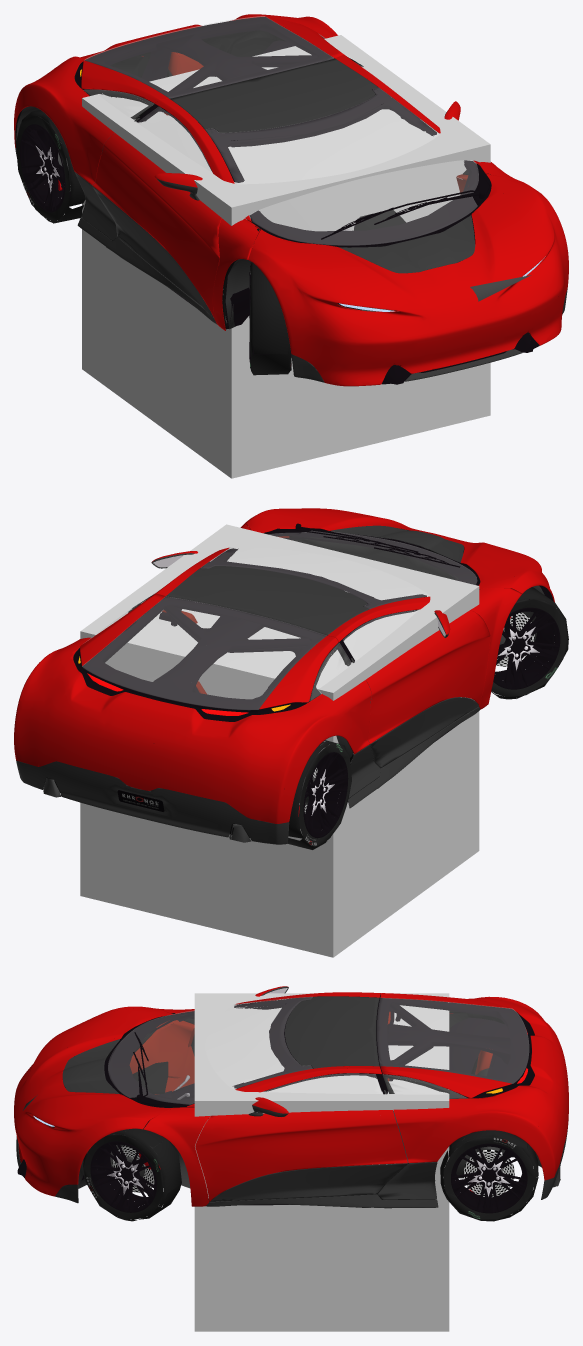
File: veiculo-carconcept-realista-medio.glb
3 renders of one model, top to bottom at view 1: azimuth 30°, elevation 25°; view 2: azimuth 150°, elevation 25°; view 3: azimuth 270°, elevation 25°, orthographic. The views are drawn at different scales.
Parts seen in each view (by area): view 1: Cube, BodyHood, BodyWindshield, BodyRearwindow, BodyDoorRColor1, BodyRoofPanel, BodyRearPanelsColor1, BodyWindshieldGasket, BodyPillars, InteriorRearHatch, InteriorPillar, BodyPanelsColor2 (+14 smaller); view 2: Cube, BodyRearPanelsColor1, BodyRearwindow, BodyPanelsColor2, BodyDoorRColor1, BodyWindshield, BodyRoofPanel, BodyHood, InteriorRearHatch, InteriorPillar, BodyPillars, WheelFrontRRim (+14 smaller); view 3: Cube, BodyRearPanelsColor1, BodyHood, BodyWindshield, BodyDoorLColor1, BodyRearwindow, BodyRoofPanel, BodyPillars, BodyDoorLColor2, BodyWindshieldGasket, BodyPanelsColor2, InteriorRearHatch (+16 smaller).
Part boxes in pixels (<box>): Cube: <box>82,35,490,478</box>; BodyHood: <box>248,174,568,386</box>; BodyWindshield: <box>205,87,478,245</box>; BodyRearwindow: <box>84,16,333,98</box>; BodyDoorRColor1: <box>92,133,221,317</box>; BodyRoofPanel: <box>170,58,377,132</box>; BodyRearPanelsColor1: <box>14,14,345,185</box>; BodyWindshieldGasket: <box>205,88,491,247</box>; BodyPillars: <box>155,55,521,330</box>; InteriorRearHatch: <box>83,17,334,104</box>; InteriorPillar: <box>141,34,379,147</box>; BodyPanelsColor2: <box>15,146,567,382</box>; Cube: <box>80,524,479,957</box>; BodyRearPanelsColor1: <box>14,593,371,823</box>; BodyRearwindow: <box>82,596,326,709</box>; BodyPanelsColor2: <box>16,707,480,844</box>; BodyDoorRColor1: <box>366,610,490,743</box>; BodyWindshield: <box>201,531,476,608</box>; BodyRoofPanel: <box>166,566,368,635</box>; BodyHood: <box>243,508,554,602</box>; InteriorRearHatch: <box>83,597,337,713</box>; InteriorPillar: <box>153,590,363,691</box>; BodyPillars: <box>154,524,521,709</box>; WheelFrontRRim: <box>493,599,560,689</box>; Cube: <box>194,993,449,1331</box>; BodyRearPanelsColor1: <box>380,993,568,1180</box>; BodyHood: <box>14,1006,172,1196</box>; BodyWindshield: <box>108,997,312,1104</box>; BodyDoorLColor1: <box>195,1110,407,1201</box>; BodyRearwindow: <box>377,998,528,1083</box>; BodyRoofPanel: <box>285,996,379,1068</box>; BodyPillars: <box>143,992,381,1206</box>; BodyDoorLColor2: <box>210,1163,407,1201</box>; BodyWindshieldGasket: <box>104,997,312,1107</box>; BodyPanelsColor2: <box>16,1128,567,1208</box>; InteriorRearHatch: <box>376,998,528,1098</box>.
Size of the model in its own units: 2.54 by 2.15 by 4.36.
24 materials, 6 textured.
